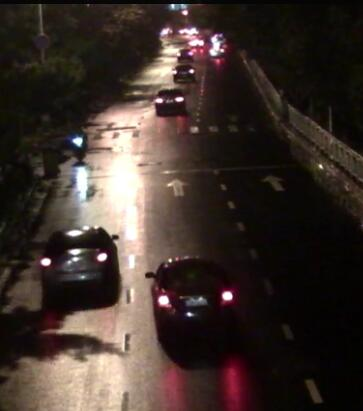car: (143, 253, 245, 344), (40, 225, 119, 301), (151, 87, 184, 115), (171, 63, 195, 84), (175, 46, 193, 60)
